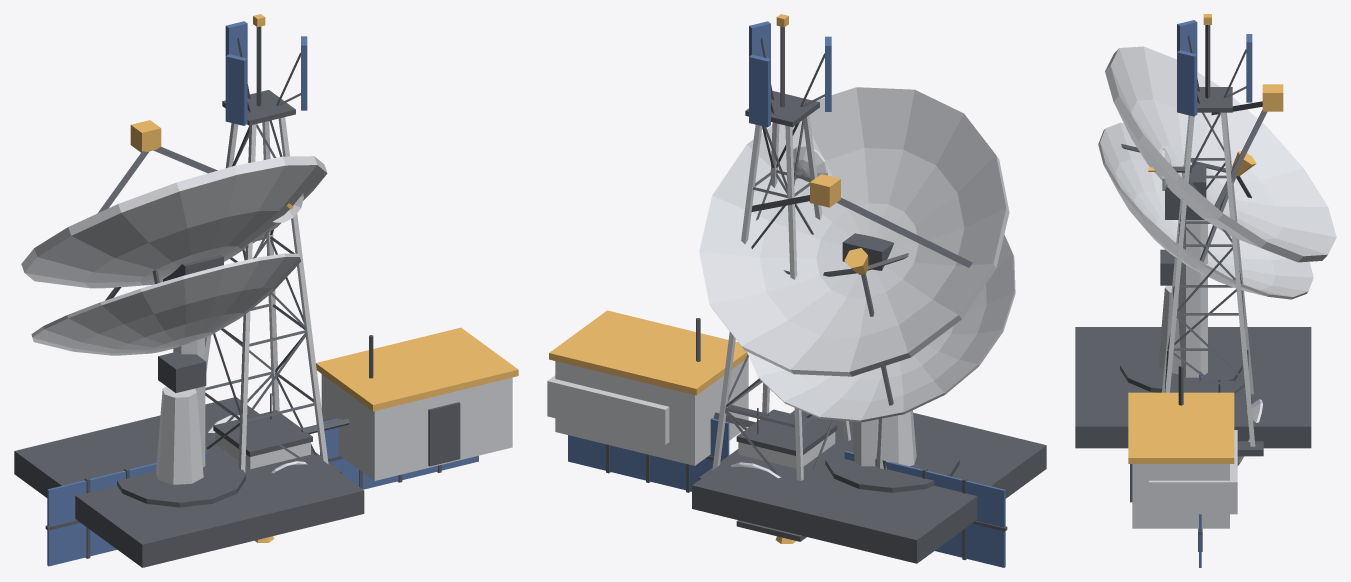
Rendered from orca-assets.glb.
The picture shows the model from 3 angles, left to right: view 1: azimuth 30°, elevation 25°; view 2: azimuth 150°, elevation 25°; view 3: azimuth 270°, elevation 25°; orthographic projection. The views are drawn at different scales.
Visible parts, largest first — view 1: UserTerminal, GatewayDish, CellTower, Satellite; view 2: UserTerminal, GatewayDish, Satellite, CellTower; view 3: UserTerminal, GatewayDish, CellTower, Satellite.
Part boxes in pixels (box(x1,y1,x2,y2)): UserTerminal: box(14, 120, 364, 567); GatewayDish: box(31, 253, 518, 507); CellTower: box(205, 14, 341, 473); Satellite: box(45, 393, 478, 566); UserTerminal: box(547, 87, 1046, 563); GatewayDish: box(549, 234, 1015, 492); Satellite: box(568, 408, 1007, 567); CellTower: box(698, 14, 850, 480); UserTerminal: box(1075, 46, 1336, 514); GatewayDish: box(1098, 122, 1313, 528); CellTower: box(1148, 14, 1263, 456); Satellite: box(1170, 371, 1262, 567).
Bounding box in the file's own units: 1 × 1.15 × 0.5679.
